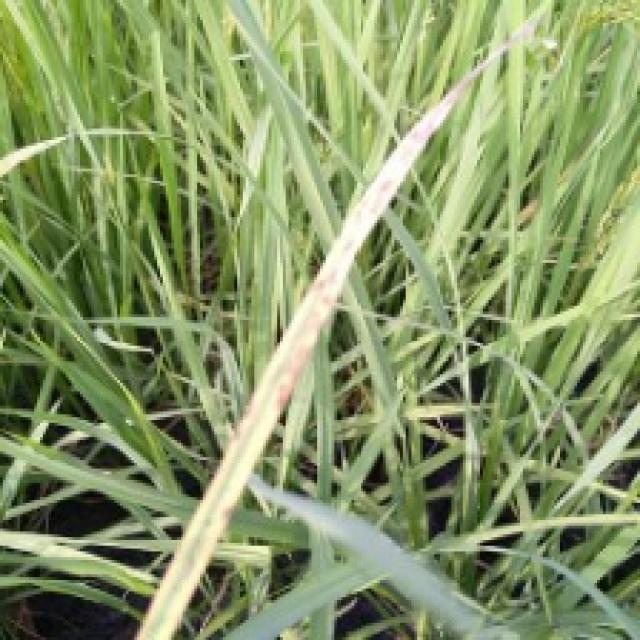Rice___Brown_Spot: (133, 10, 541, 637)
